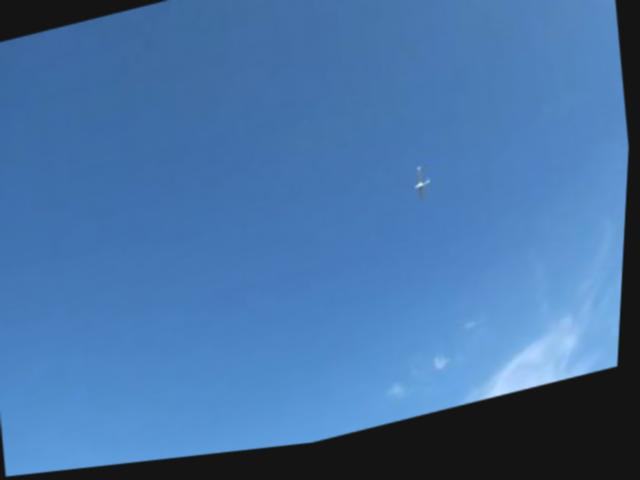uav: (405, 165, 442, 219)
